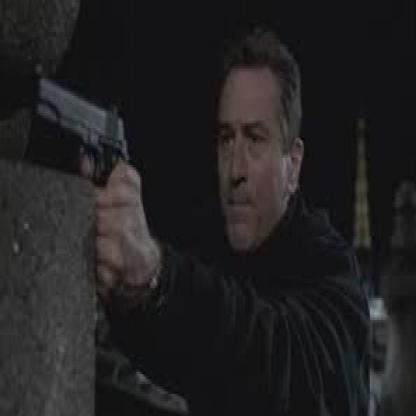Pistol: (25, 72, 133, 195)
